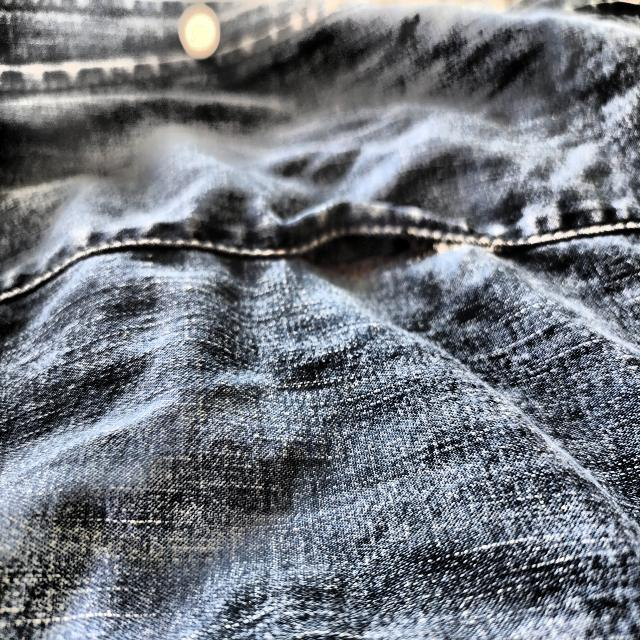seam: (294, 209, 448, 274)
